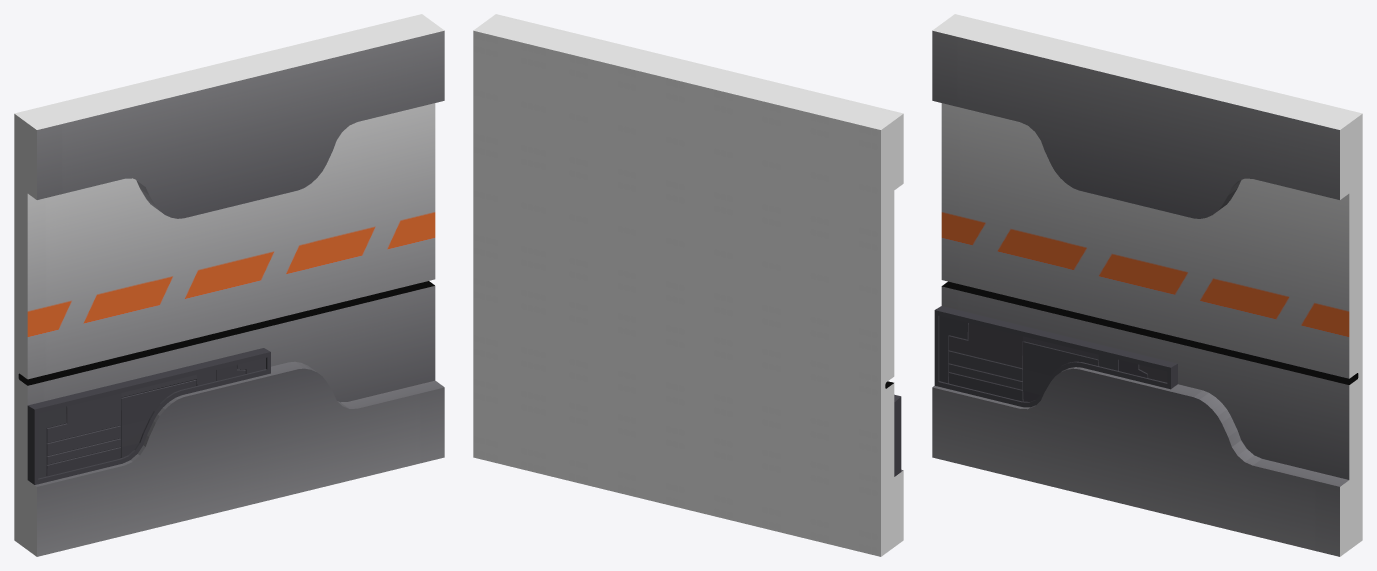
Rendered from 2048_Wall_SquarePanel.fbx.
3 views of the same model, side by side, from view 1: azimuth 30°, elevation 25°; view 2: azimuth 150°, elevation 25°; view 3: azimuth 330°, elevation 25° (orthographic).
Visible parts, largest first — view 1: TEXTURED_WT_SquarePanel; view 2: TEXTURED_WT_SquarePanel; view 3: TEXTURED_WT_SquarePanel.
Part boxes in pixels (<box>): TEXTURED_WT_SquarePanel: <box>14,14,444,556</box>; TEXTURED_WT_SquarePanel: <box>473,14,903,556</box>; TEXTURED_WT_SquarePanel: <box>932,14,1362,556</box>.
Size of the model in its own units: 200 by 200 by 19.34.
Materials: 1 (1 with a texture image).
